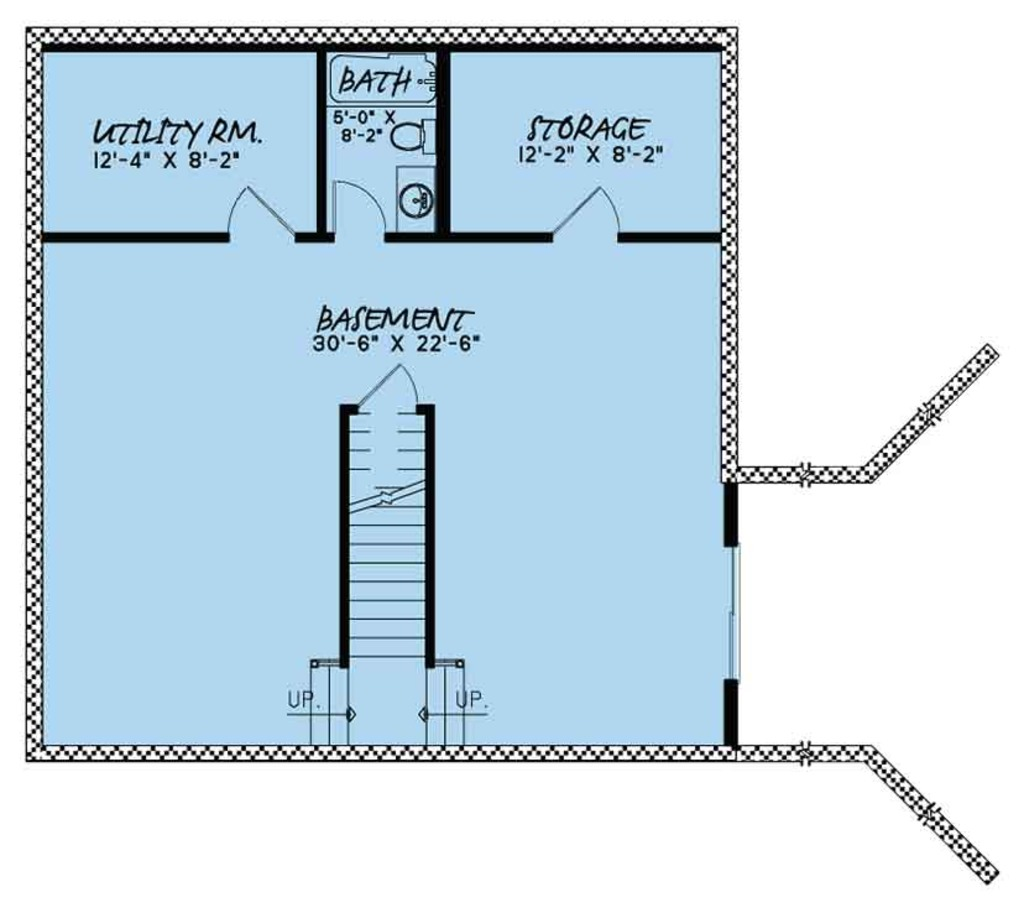door: (195, 160, 293, 240), (550, 177, 631, 247), (348, 356, 426, 404), (333, 179, 384, 242)
large_sink: (370, 111, 434, 164)
small_sink: (390, 161, 434, 239)
stairs: (291, 406, 483, 742)
tub: (326, 54, 437, 110)
window: (727, 545, 737, 677)
